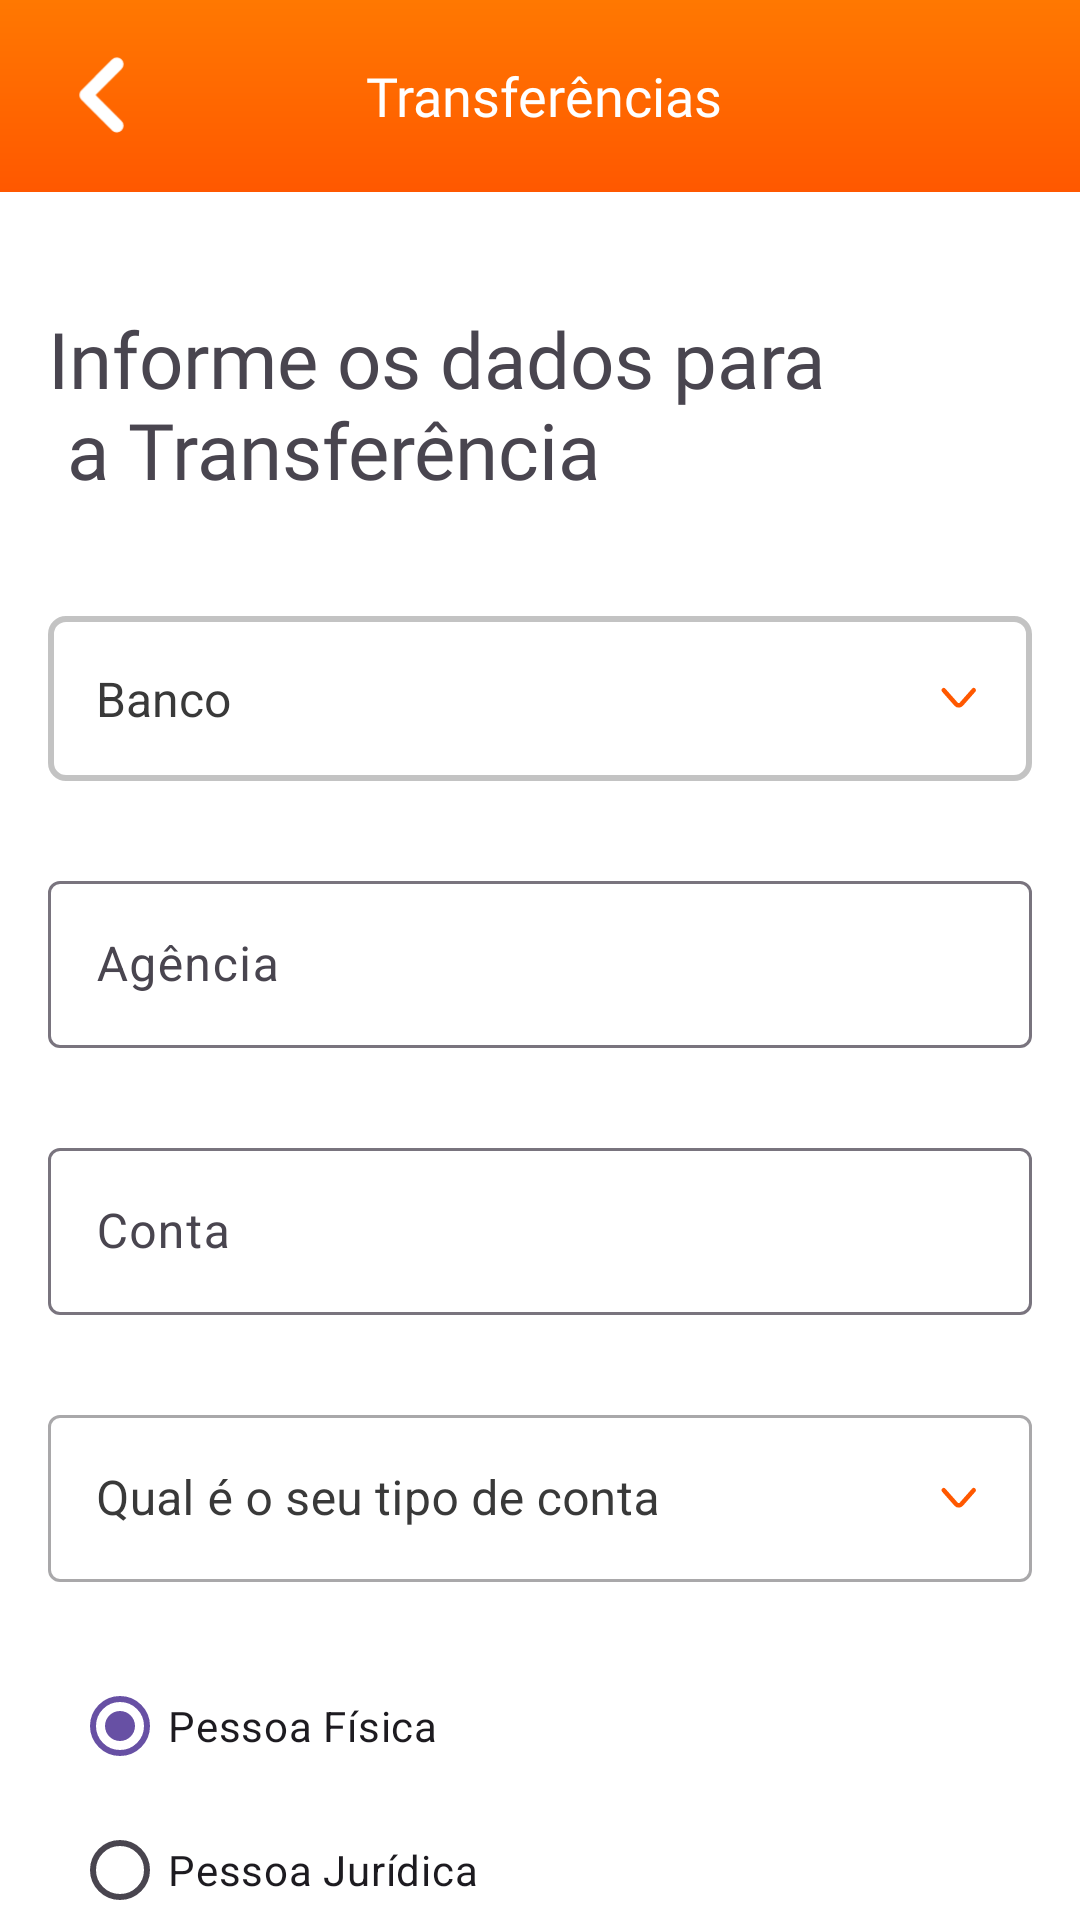

Where to tap for icons on this 1080x1920 app screen, as [x,y]:
Seta de voltar: [102,109]
